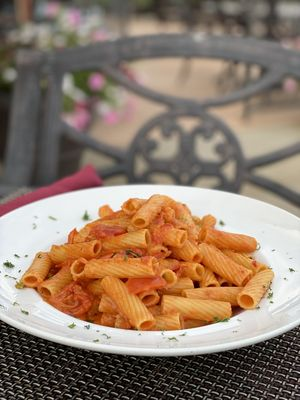curry: (1, 163, 299, 400)
